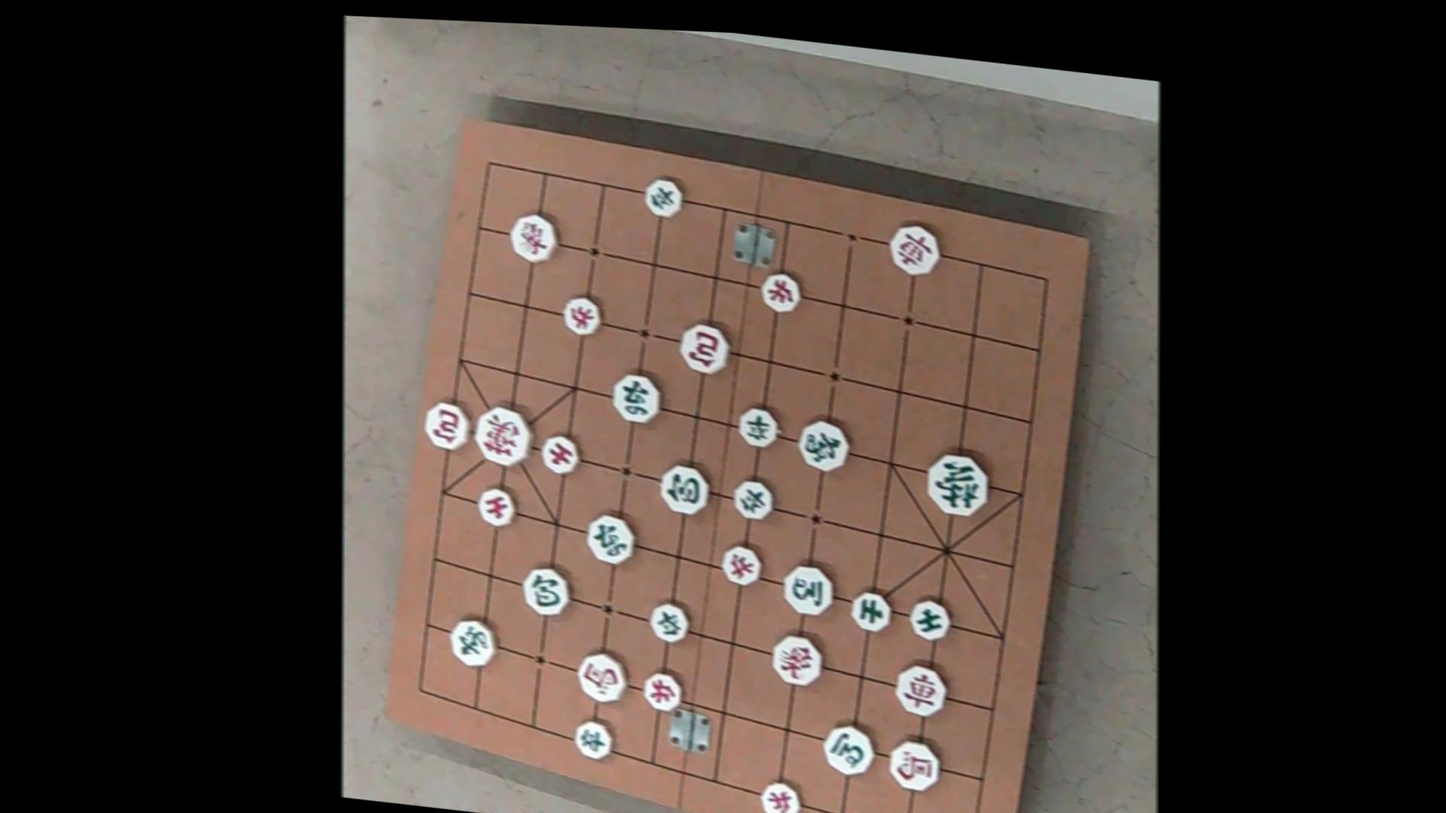cha_green: (584, 512, 639, 565), (609, 371, 663, 424)
cha_red: (892, 662, 950, 717), (886, 223, 943, 277)
jol_green: (734, 407, 779, 449), (731, 480, 776, 522), (647, 601, 691, 643), (642, 176, 685, 218), (572, 719, 614, 760)
jol_red: (718, 540, 763, 583), (758, 270, 802, 312), (563, 294, 604, 336), (642, 673, 684, 714), (757, 781, 802, 813)
ma_green: (821, 724, 878, 778), (779, 563, 834, 617)
ma_red: (886, 738, 942, 792), (572, 650, 628, 702)
po_green: (658, 464, 712, 516), (520, 566, 573, 617)
po_red: (676, 322, 731, 375), (422, 399, 474, 449)
sa_green: (906, 597, 951, 641), (849, 589, 894, 632)
sa_red: (536, 434, 580, 475), (474, 485, 517, 526)
sang_green: (795, 416, 850, 470), (446, 616, 499, 666)
sang_red: (770, 633, 827, 687), (507, 214, 560, 265)
wang_green: (924, 449, 993, 516)
wang_red: (471, 403, 535, 466)
